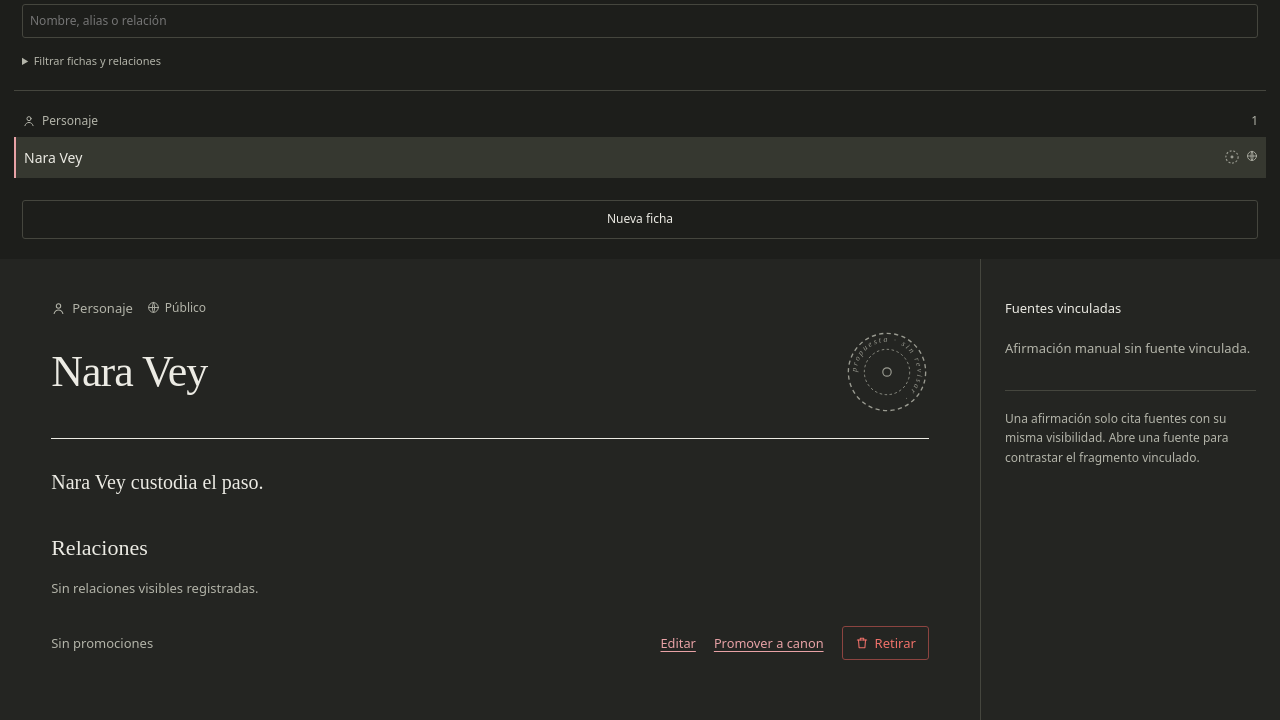
Test: CatalogueWorkspace › promueve una propuesta a canon mediante una decisión explícita
(page scrolled)
Click the button "Promover a canon": [769, 643] box x1=714 y1=634 x2=824 y2=653
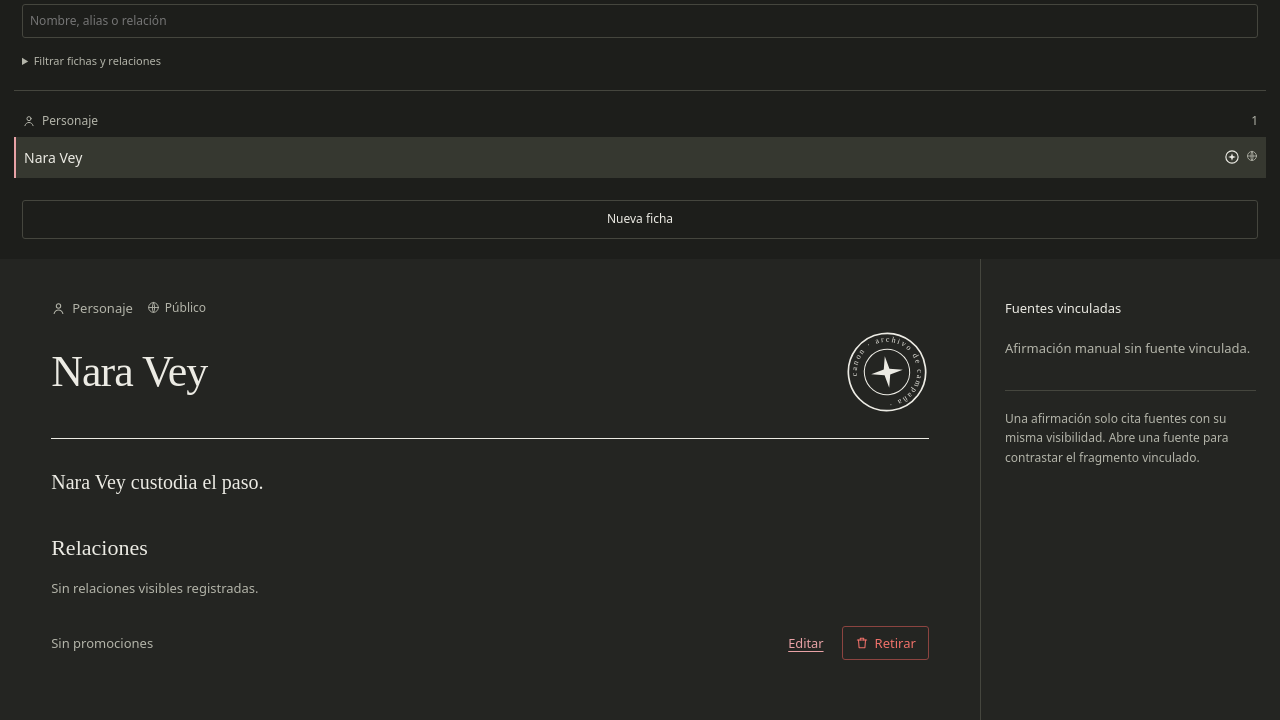
Expected: the button "Promover a canon" is gone
